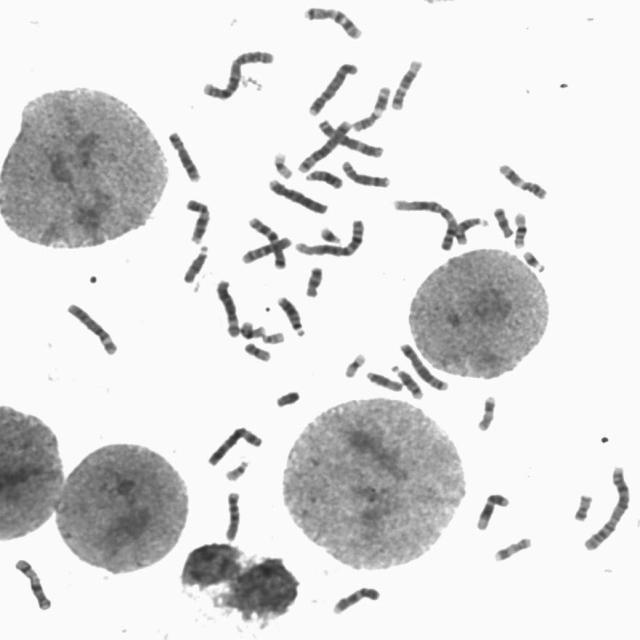A1: (388, 194, 464, 251), (291, 215, 366, 259)
A2: (580, 461, 632, 552), (198, 46, 277, 100)
A3: (314, 114, 386, 158), (204, 422, 265, 468)
B4: (304, 58, 360, 117), (264, 174, 330, 216)
B5: (294, 116, 354, 174), (396, 338, 451, 392)
C10: (238, 232, 294, 266), (220, 487, 243, 542)
C11: (349, 80, 393, 134), (495, 159, 550, 201)
C12: (387, 55, 424, 111), (473, 488, 512, 531)
C6: (62, 298, 120, 356), (211, 274, 242, 338)
C7: (244, 213, 288, 270), (301, 2, 364, 40)
C8: (164, 127, 203, 183), (338, 156, 393, 189)
C9: (328, 582, 383, 616), (182, 194, 212, 244)
D13: (273, 292, 307, 337), (303, 166, 345, 190)
D14: (388, 361, 426, 400), (451, 212, 490, 245)
D15: (178, 242, 210, 284), (362, 368, 404, 392)
E16: (509, 208, 530, 249), (237, 316, 267, 339)
E17: (490, 532, 534, 564), (474, 391, 498, 432)
E18: (490, 202, 515, 238), (302, 262, 324, 298)
F19: (340, 349, 368, 379), (269, 148, 295, 179)
F20: (570, 490, 595, 522), (241, 338, 273, 362)
G21: (518, 246, 548, 273), (315, 226, 342, 245)
G22: (222, 456, 252, 482), (259, 327, 286, 345)
X: (10, 554, 54, 611)
Y: (272, 386, 302, 408)
